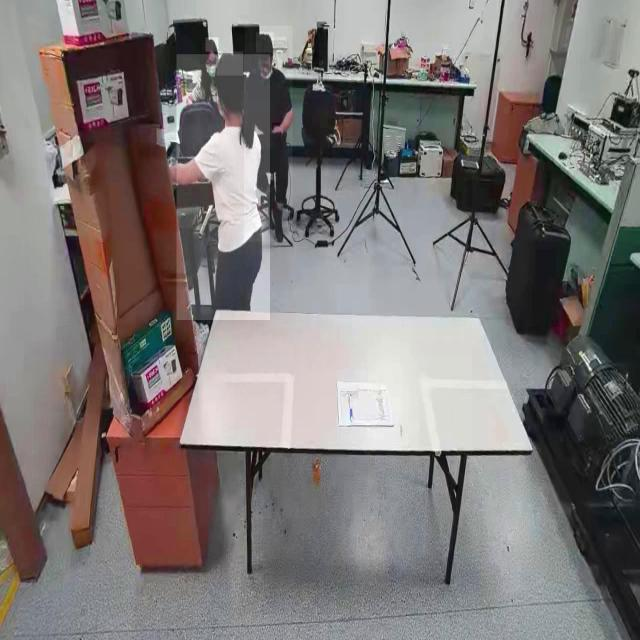hand_noglove: (271, 123, 285, 133)
head_nohelmet: (216, 52, 243, 76), (256, 32, 274, 53), (205, 38, 219, 52)
person: (176, 54, 270, 321), (244, 26, 292, 242)
shoes: (271, 202, 286, 244)
